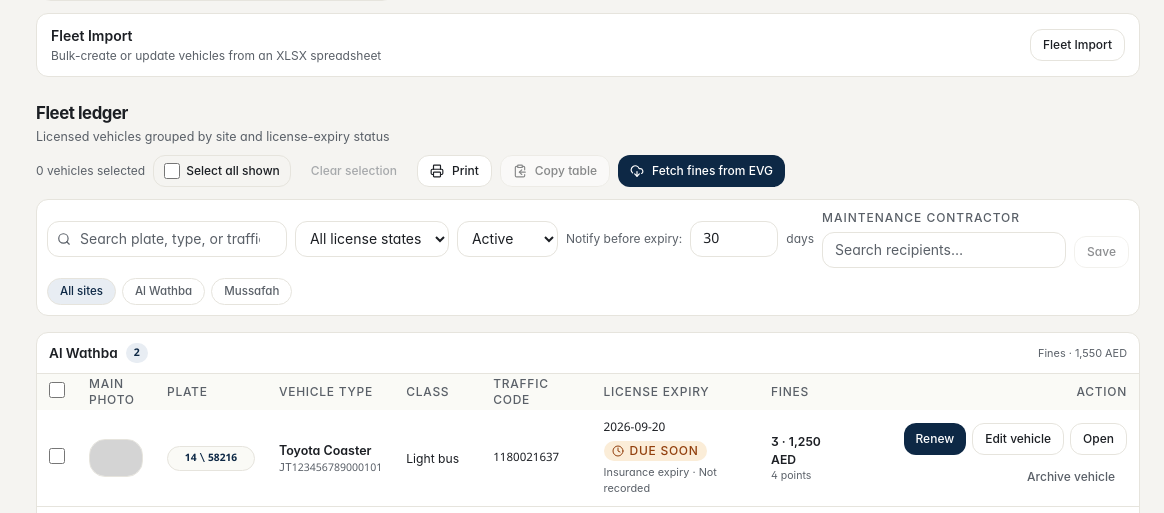
it: VehiclesHubPage › switches the ledger to archived vehicles and offers Restore instead of Archive
The image size is (1164, 513).
(page scrolled)
Expected: the text "14 \\ 58216" is shown, top-left (185, 451), bottom-right (237, 466)
Select "Archived" in the dropdown named "State" at (507, 239), box top-left (457, 221), bottom-right (558, 257)
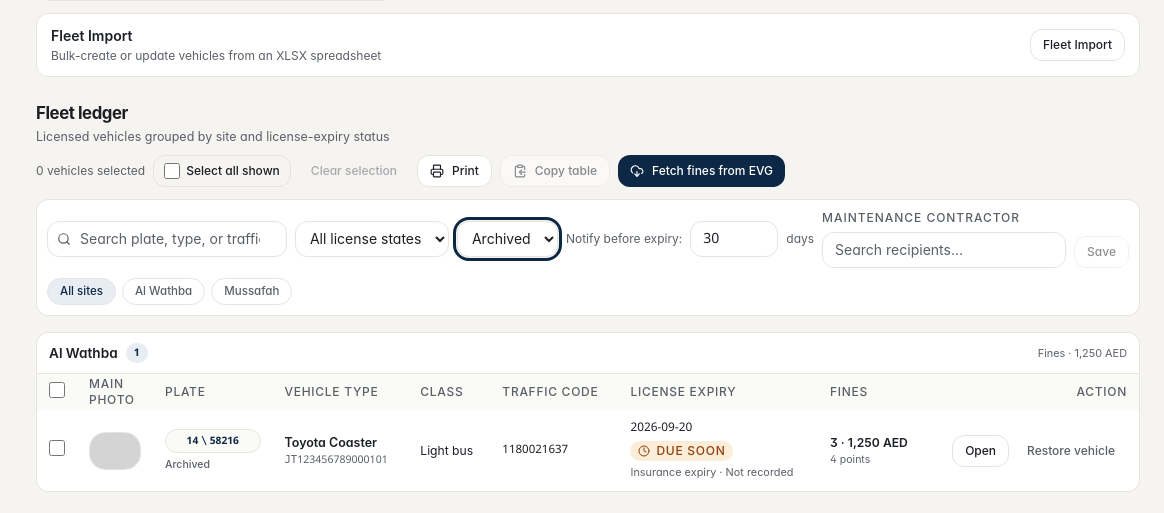
Expected: the button "Restore vehicle" is shown, top-left (1015, 434), bottom-right (1127, 466)
Expected: the button "Archive vehicle" is gone
